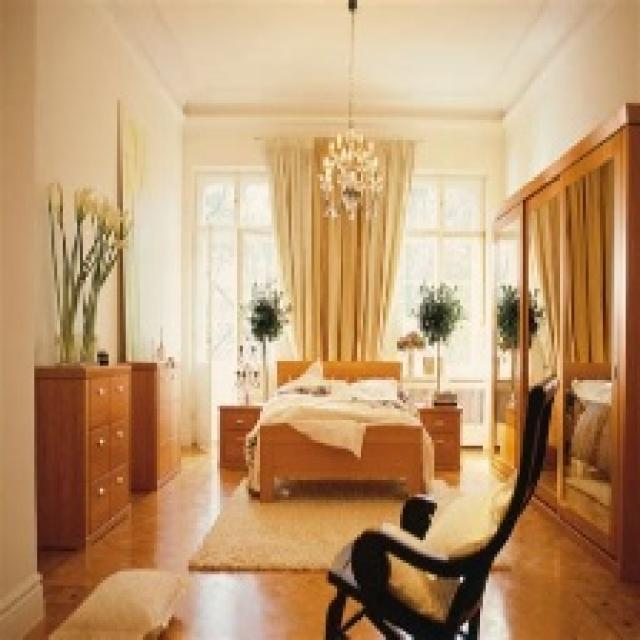Bed: (243, 357, 434, 500)
